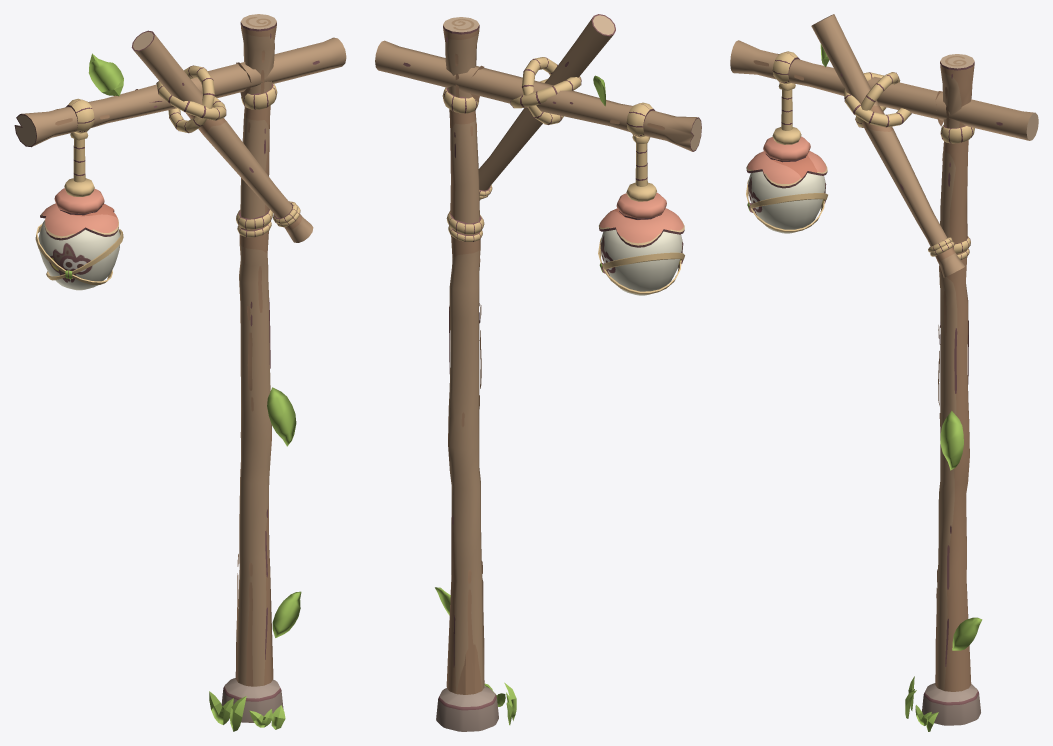
The model's file is Mesh_Home_B_RF_10_SM.fbx.
The picture shows the model from 3 angles, left to right: view 1: azimuth 30°, elevation 25°; view 2: azimuth 150°, elevation 25°; view 3: azimuth 330°, elevation 25°; orthographic projection. The views are drawn at different scales.
Parts seen in each view (by area): view 1: Mesh_Home_B_RF_10; view 2: Mesh_Home_B_RF_10; view 3: Mesh_Home_B_RF_10.
Boxes of the visible parts, left/top/right/bottom form: Mesh_Home_B_RF_10: left=14, top=14, right=346, bottom=731; Mesh_Home_B_RF_10: left=375, top=14, right=701, bottom=731; Mesh_Home_B_RF_10: left=730, top=14, right=1038, bottom=731.
Size of the model in its own units: 120 by 261 by 34.05.
